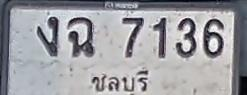1: (152, 16, 167, 58)
3: (175, 16, 196, 58)
6: (202, 18, 224, 57)
7: (122, 16, 144, 58)
A07: (36, 16, 59, 56)
A09: (67, 16, 94, 56)
CBI: (87, 67, 152, 95)
